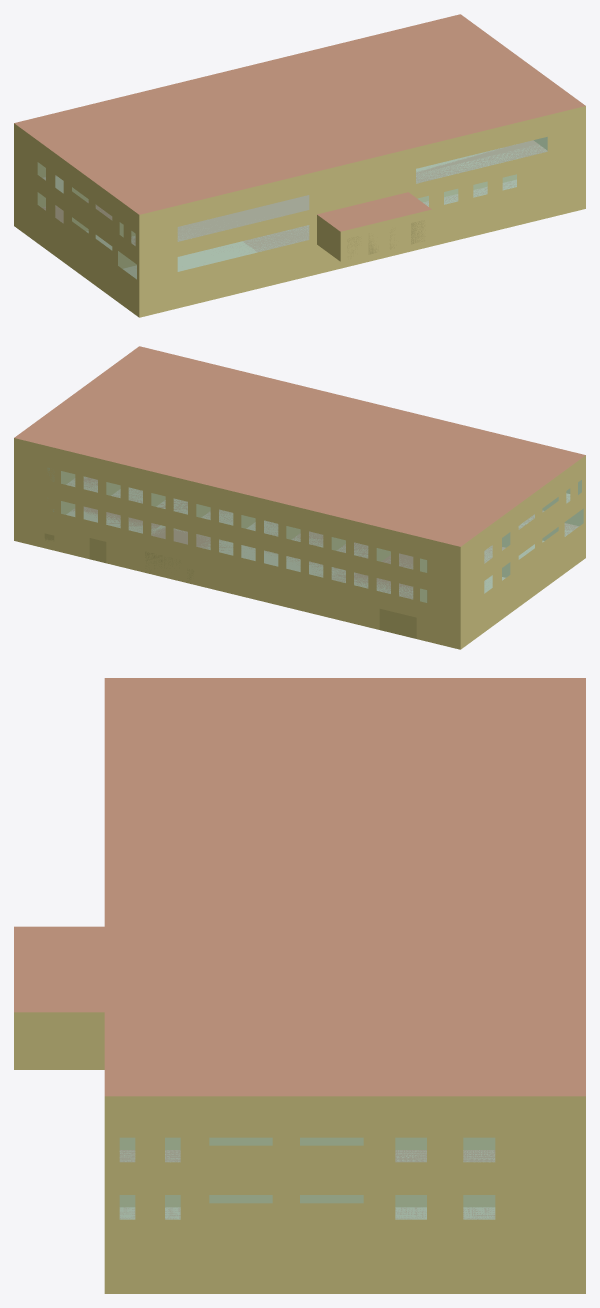
Rendered from ASHRAECourthouse.gltf.
3 views of the same model, one above another, from view 1: azimuth 30°, elevation 25°; view 2: azimuth 150°, elevation 25°; view 3: azimuth 270°, elevation 25° (orthographic). The views are drawn at different scales.
Parts seen in each view (by area): view 1: Surface 338, Surface 347, Surface 386, Surface 426, Surface 412, Surface 402, Surface 196, Surface 349, Surface 339, Surface 169, Surface 14, Surface 24 (+55 smaller); view 2: Surface 155, Surface 412, Surface 386, Surface 426, Surface 402, Surface 322, Surface 311, Surface 339, Surface 349, Surface 276, Surface 170, Surface 510 (+50 smaller); view 3: Surface 386, Surface 402, Surface 412, Surface 426, Surface 258, Surface 349, Surface 339, Surface 440, Surface 473, Surface 116, Surface 510, Surface 8 (+46 smaller).
Part boxes in pixels (bbox=[...]): Surface 338: bbox=[170, 164, 346, 250]; Surface 347: bbox=[379, 113, 555, 199]; Surface 386: bbox=[88, 119, 223, 186]; Surface 426: bbox=[383, 47, 518, 114]; Surface 412: bbox=[284, 71, 420, 138]; Surface 402: bbox=[186, 95, 321, 162]; Surface 196: bbox=[379, 186, 555, 259]; Surface 349: bbox=[355, 96, 554, 156]; Surface 339: bbox=[147, 147, 345, 207]; Surface 169: bbox=[139, 257, 264, 317]; Surface 14: bbox=[139, 214, 316, 287]; Surface 24: bbox=[408, 156, 555, 216]; Surface 155: bbox=[57, 491, 417, 609]; Surface 412: bbox=[186, 398, 321, 465]; Surface 386: bbox=[383, 446, 518, 513]; Surface 426: bbox=[88, 374, 223, 441]; Surface 402: bbox=[285, 422, 420, 489]; Surface 322: bbox=[14, 438, 56, 551]; Surface 311: bbox=[417, 536, 460, 649]; Surface 339: bbox=[356, 404, 554, 464]; Surface 349: bbox=[147, 353, 345, 413]; Surface 276: bbox=[200, 556, 335, 619]; Surface 170: bbox=[479, 528, 585, 635]; Surface 510: bbox=[81, 426, 447, 518]; Surface 386: bbox=[195, 718, 467, 779]; Surface 402: bbox=[195, 810, 467, 871]; Surface 412: bbox=[195, 902, 467, 963]; Surface 426: bbox=[195, 994, 467, 1055]; Surface 258: bbox=[286, 1236, 549, 1293]; Surface 349: bbox=[104, 902, 195, 1067]; Surface 339: bbox=[104, 707, 195, 871]; Surface 440: bbox=[195, 1096, 377, 1178]; Surface 473: bbox=[377, 1096, 513, 1178]; Surface 116: bbox=[195, 1178, 377, 1236]; Surface 510: bbox=[468, 718, 495, 1055]; Surface 8: bbox=[14, 926, 104, 1012].
Size of the model in its own units: 66.45 by 14.63 by 38.4.
